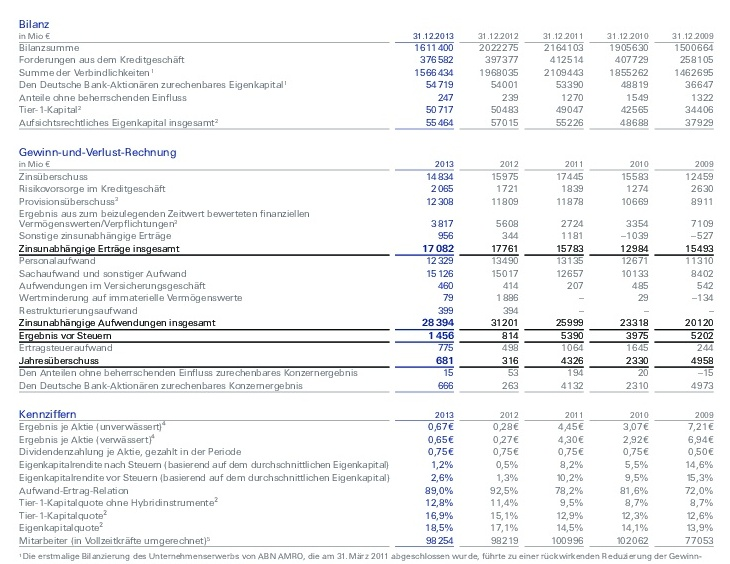table: (0, 0, 730, 564)
